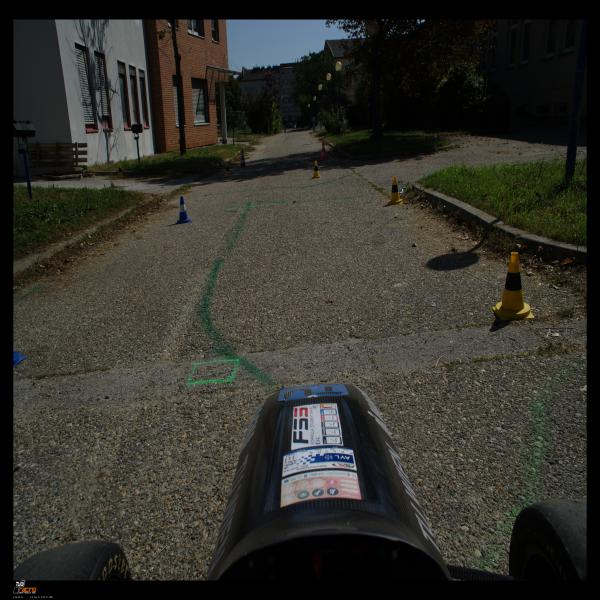blue_cone: (176, 196, 192, 224)
large_orange_cone: (240, 149, 247, 168), (320, 141, 327, 160)
yellow_cone: (492, 252, 535, 322), (388, 176, 402, 206), (312, 161, 321, 179), (224, 162, 232, 178)
